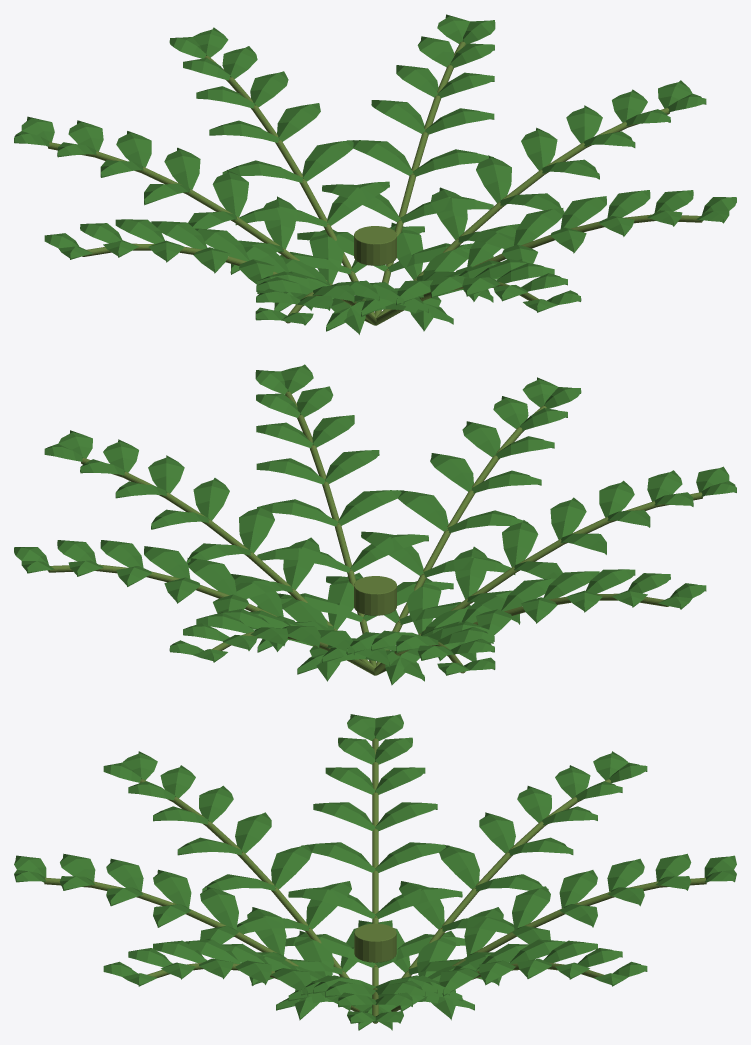
Rendered from source-edit.glb.
3 views of the same model, one above another, from view 1: azimuth 30°, elevation 25°; view 2: azimuth 150°, elevation 25°; view 3: azimuth 270°, elevation 25° (orthographic). The views are drawn at different scales.
Visible parts, largest first — view 1: FERN_Core, FERN_Pinna.006, FERN_Pinna.047, FERN_Pinna.033, FERN_Pinna.104, FERN_Pinna.018, FERN_Pinna.020, FERN_Pinna.004, FERN_Pinna.008, FERN_Pinna.049, FERN_Pinna.035, FERN_Pinna.022 (+51 smaller); view 2: FERN_Core, FERN_Pinna.005, FERN_Pinna.076, FERN_Pinna.090, FERN_Pinna.019, FERN_Pinna.088, FERN_Pinna.103, FERN_Pinna.072, FERN_Pinna.007, FERN_Pinna.074, FERN_Pinna.078, FERN_Pinna.092 (+52 smaller); view 3: FERN_Core, FERN_Pinna.075, FERN_Pinna.048, FERN_Pinna.034, FERN_Pinna.089, FERN_Pinna.046, FERN_Pinna.077, FERN_Pinna.060, FERN_Pinna.050, FERN_Pinna.061, FERN_Pinna.032, FERN_Pinna.036 (+47 smaller).
Boxes of the visible parts, x1,y1,x2,y2 form: FERN_Core: (354, 226, 396, 265); FERN_Pinna.006: (476, 155, 511, 203); FERN_Pinna.047: (212, 170, 248, 217); FERN_Pinna.033: (302, 140, 353, 181); FERN_Pinna.104: (514, 208, 563, 245); FERN_Pinna.018: (322, 184, 400, 222); FERN_Pinna.020: (347, 140, 412, 175); FERN_Pinna.004: (430, 187, 467, 239); FERN_Pinna.008: (521, 127, 557, 170); FERN_Pinna.049: (164, 147, 200, 189); FERN_Pinna.035: (277, 103, 320, 141); FERN_Pinna.022: (371, 100, 425, 133); FERN_Core: (354, 576, 396, 615); FERN_Pinna.005: (239, 505, 274, 553); FERN_Pinna.076: (502, 520, 538, 567); FERN_Pinna.090: (397, 490, 448, 531); FERN_Pinna.019: (187, 558, 236, 595); FERN_Pinna.088: (361, 531, 423, 575); FERN_Pinna.103: (338, 490, 403, 525); FERN_Pinna.072: (407, 578, 441, 634); FERN_Pinna.007: (193, 478, 229, 520); FERN_Pinna.074: (453, 546, 487, 599); FERN_Pinna.078: (550, 497, 586, 539); FERN_Pinna.092: (430, 453, 473, 491); FERN_Core: (354, 923, 396, 962); FERN_Pinna.075: (271, 844, 311, 888); FERN_Pinna.048: (439, 844, 479, 888); FERN_Pinna.034: (512, 886, 550, 930); FERN_Pinna.089: (200, 886, 238, 929); FERN_Pinna.046: (399, 881, 444, 929); FERN_Pinna.077: (235, 812, 271, 853); FERN_Pinna.060: (288, 887, 375, 918); FERN_Pinna.050: (479, 812, 515, 853); FERN_Pinna.061: (375, 842, 449, 872); FERN_Pinna.032: (464, 907, 503, 956); FERN_Pinna.036: (559, 870, 597, 908).
Bounding box in the file's own units: 1.53 × 0.3627 × 1.53.
